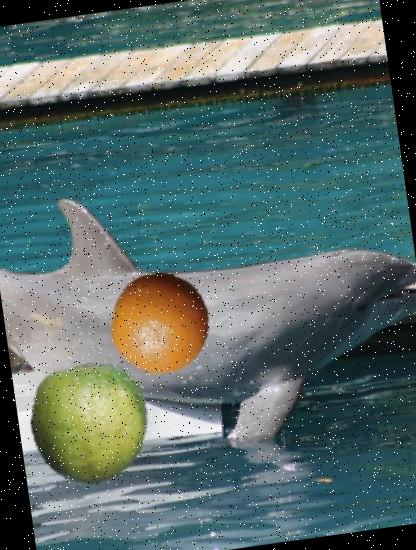Limes: (21, 354, 160, 493)
Orange: (104, 266, 218, 380)
